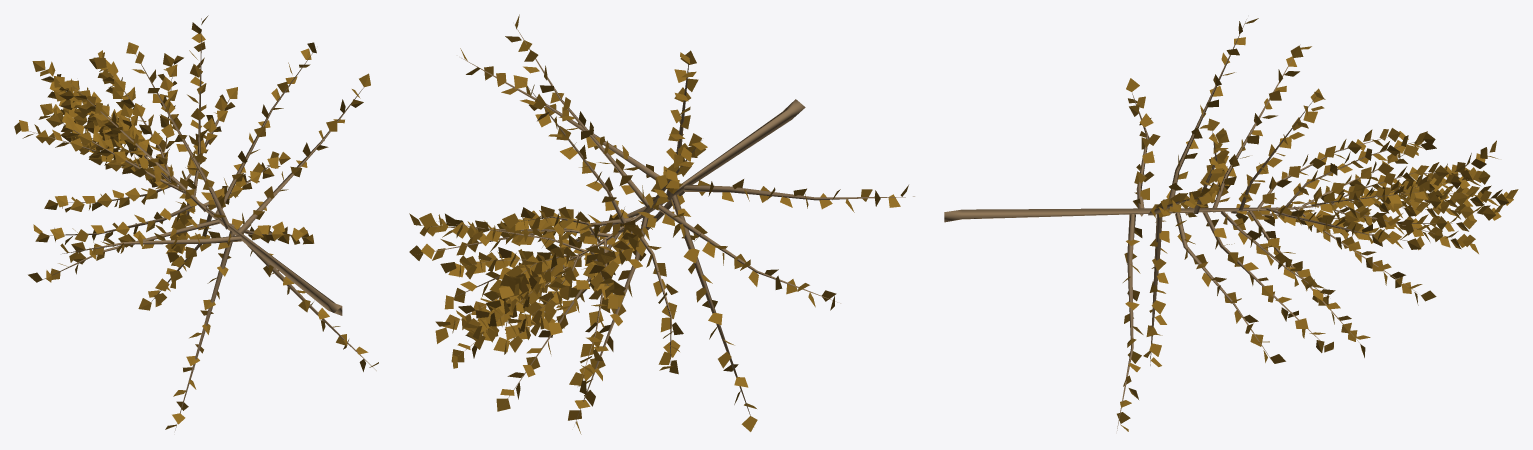
File: European tree.fbx
3 views of the same model, side by side, from view 1: azimuth 30°, elevation 25°; view 2: azimuth 150°, elevation 25°; view 3: azimuth 270°, elevation 25° (orthographic). The views are drawn at different scales.
Visible parts, largest first — view 1: Tree; view 2: Tree; view 3: Tree.
Part boxes in pixels (bbox=[...]): Tree: bbox=[14, 15, 378, 430]; Tree: bbox=[409, 14, 914, 434]; Tree: bbox=[944, 18, 1518, 431].
Size of the model in its own units: 1625 by 1565 by 2276.
